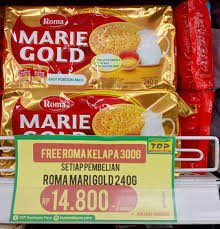Roma Marie Gold (240g): (0, 2, 176, 89), (0, 93, 182, 163)
